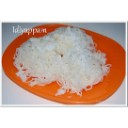idiyappam: (60, 27, 107, 88), (18, 38, 58, 81)
